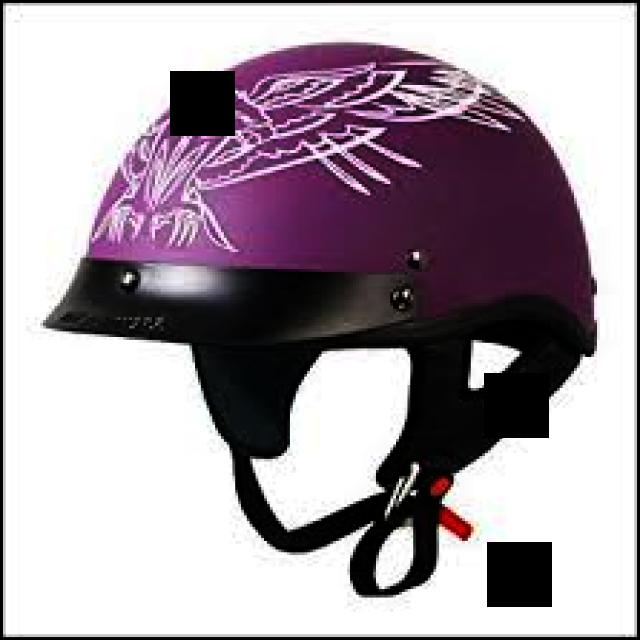Helmet: (47, 44, 594, 594)
